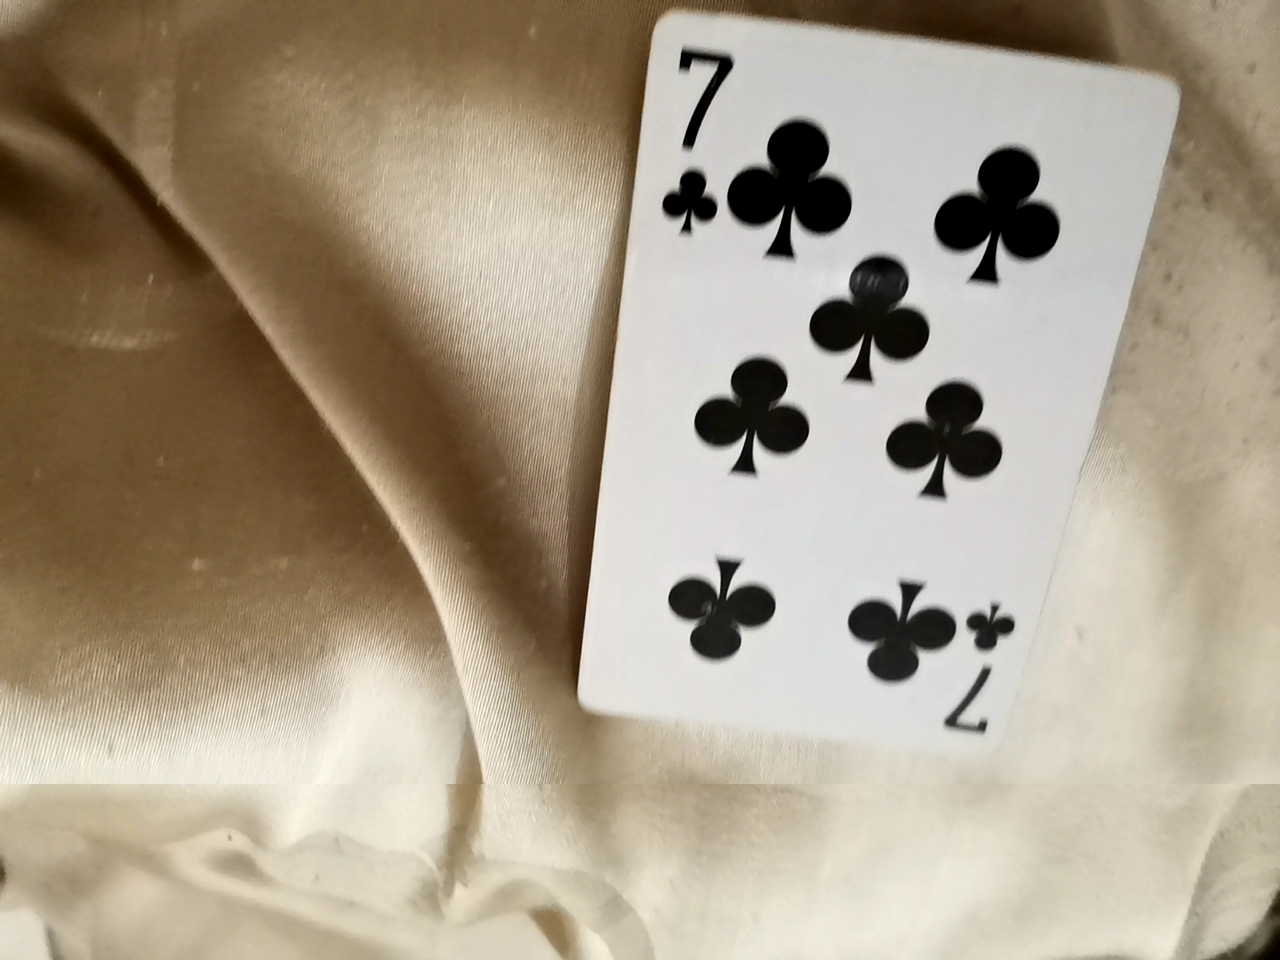mh 7: (587, 11, 1178, 768)
